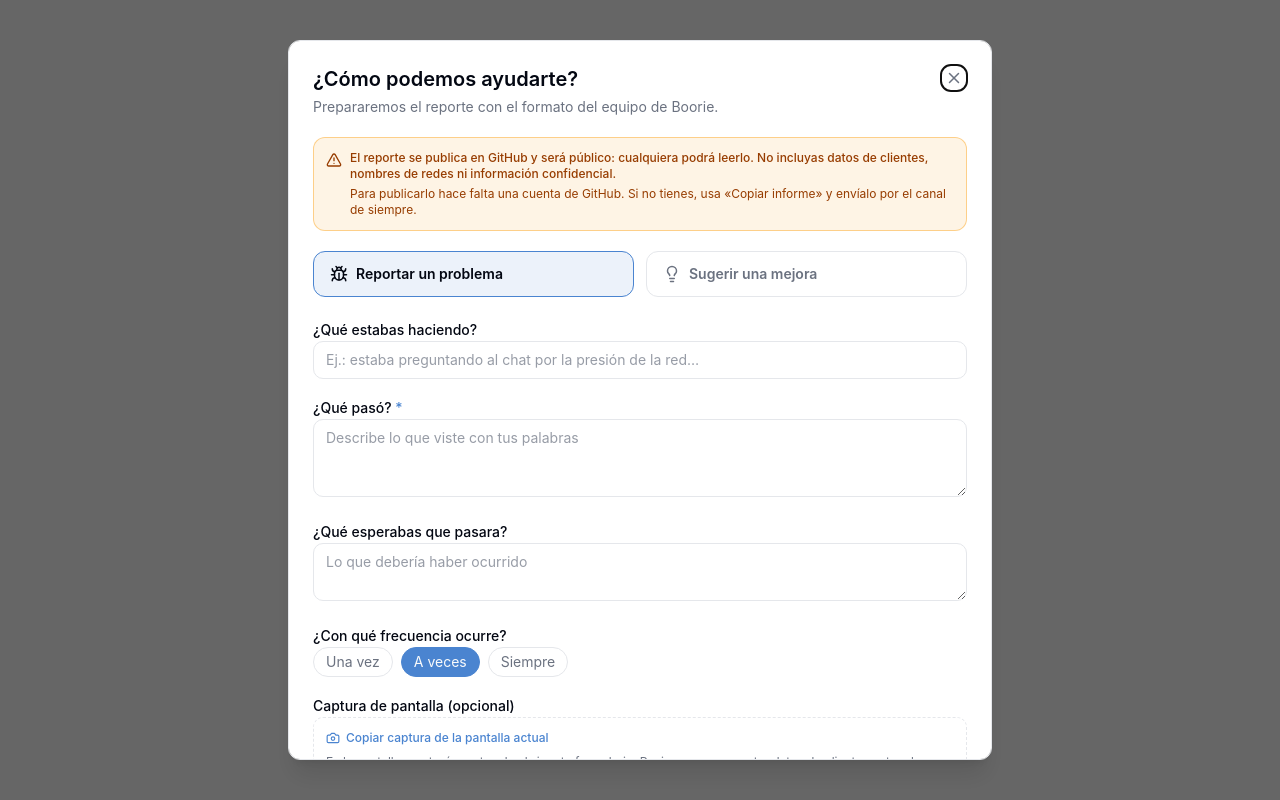
Test: DialogoAyuda › un fallo se explica sin detalles técnicos (R18, R24)
In the text box with placeholder "Describe lo que viste con tus palabras": (640, 458) [313,419,967,497], type "x"
(page scrolled)
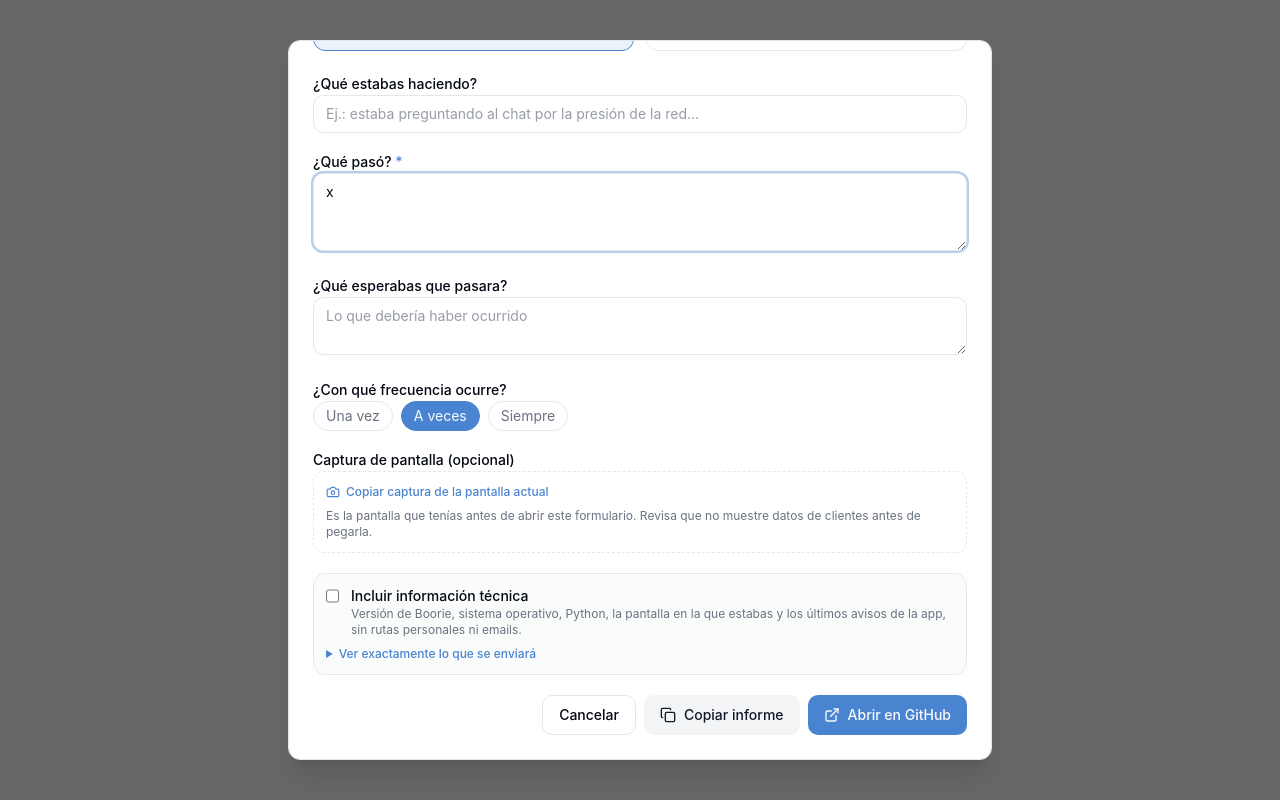
Click the button "Abrir en GitHub": click(887, 715) [808,695,967,735]
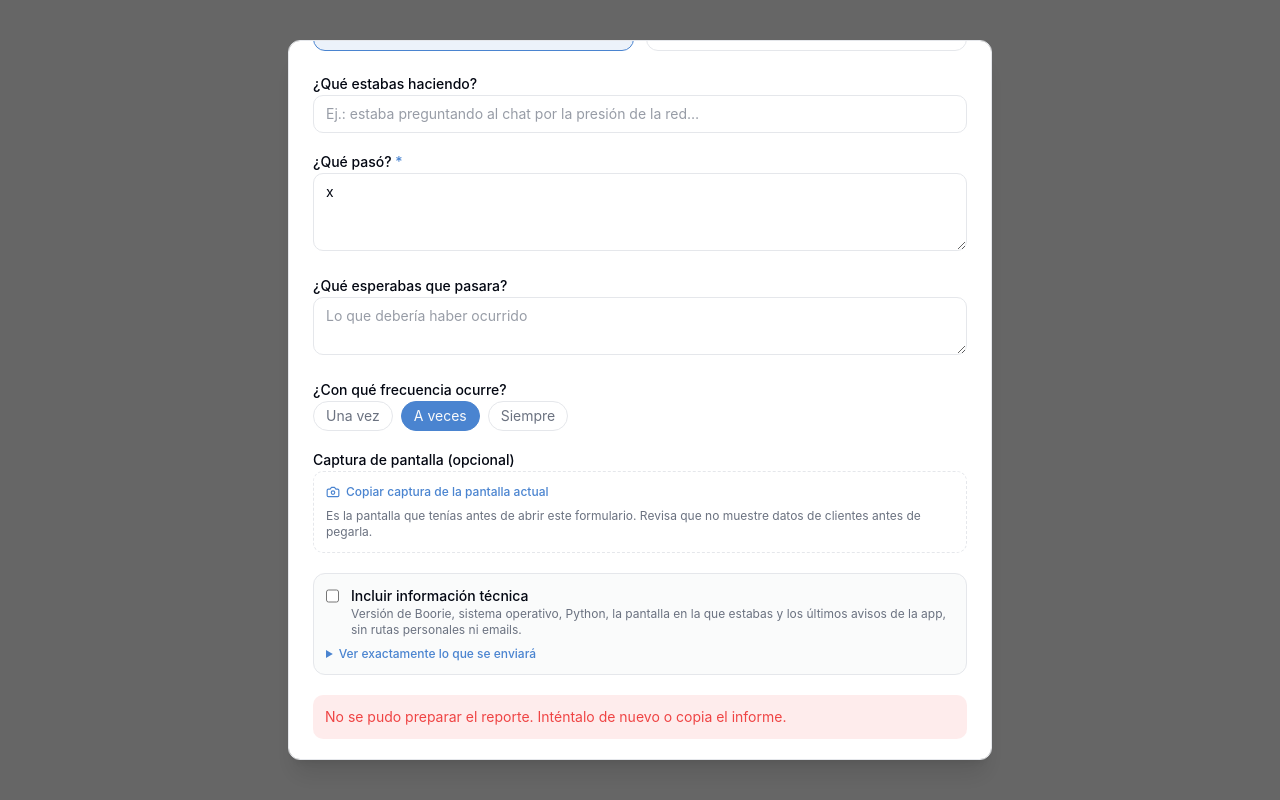
Result: the text "No se pudo preparar el reporte. Inténtalo de nuevo o copia el informe." is shown at [325,708,786,725]
